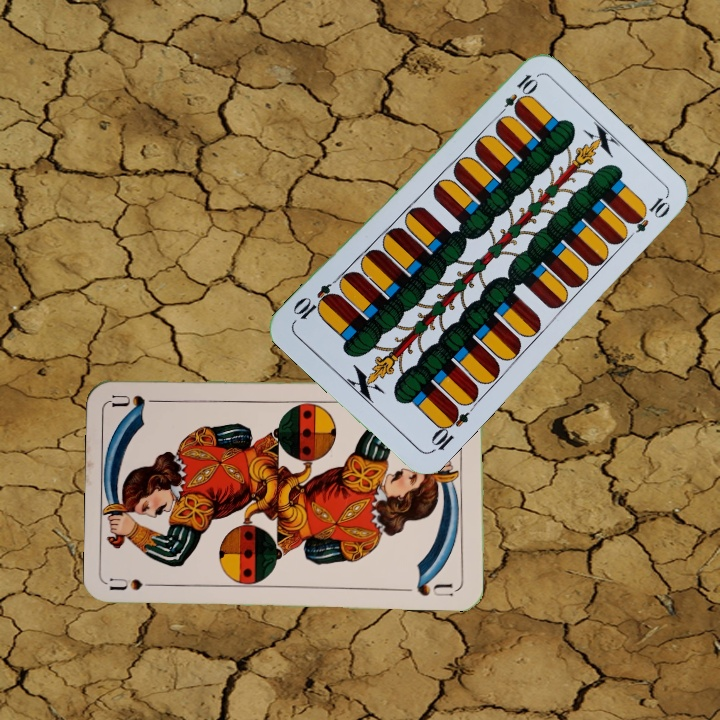E10: (426, 402, 472, 456), (493, 70, 540, 121)
SU: (108, 574, 167, 593)
